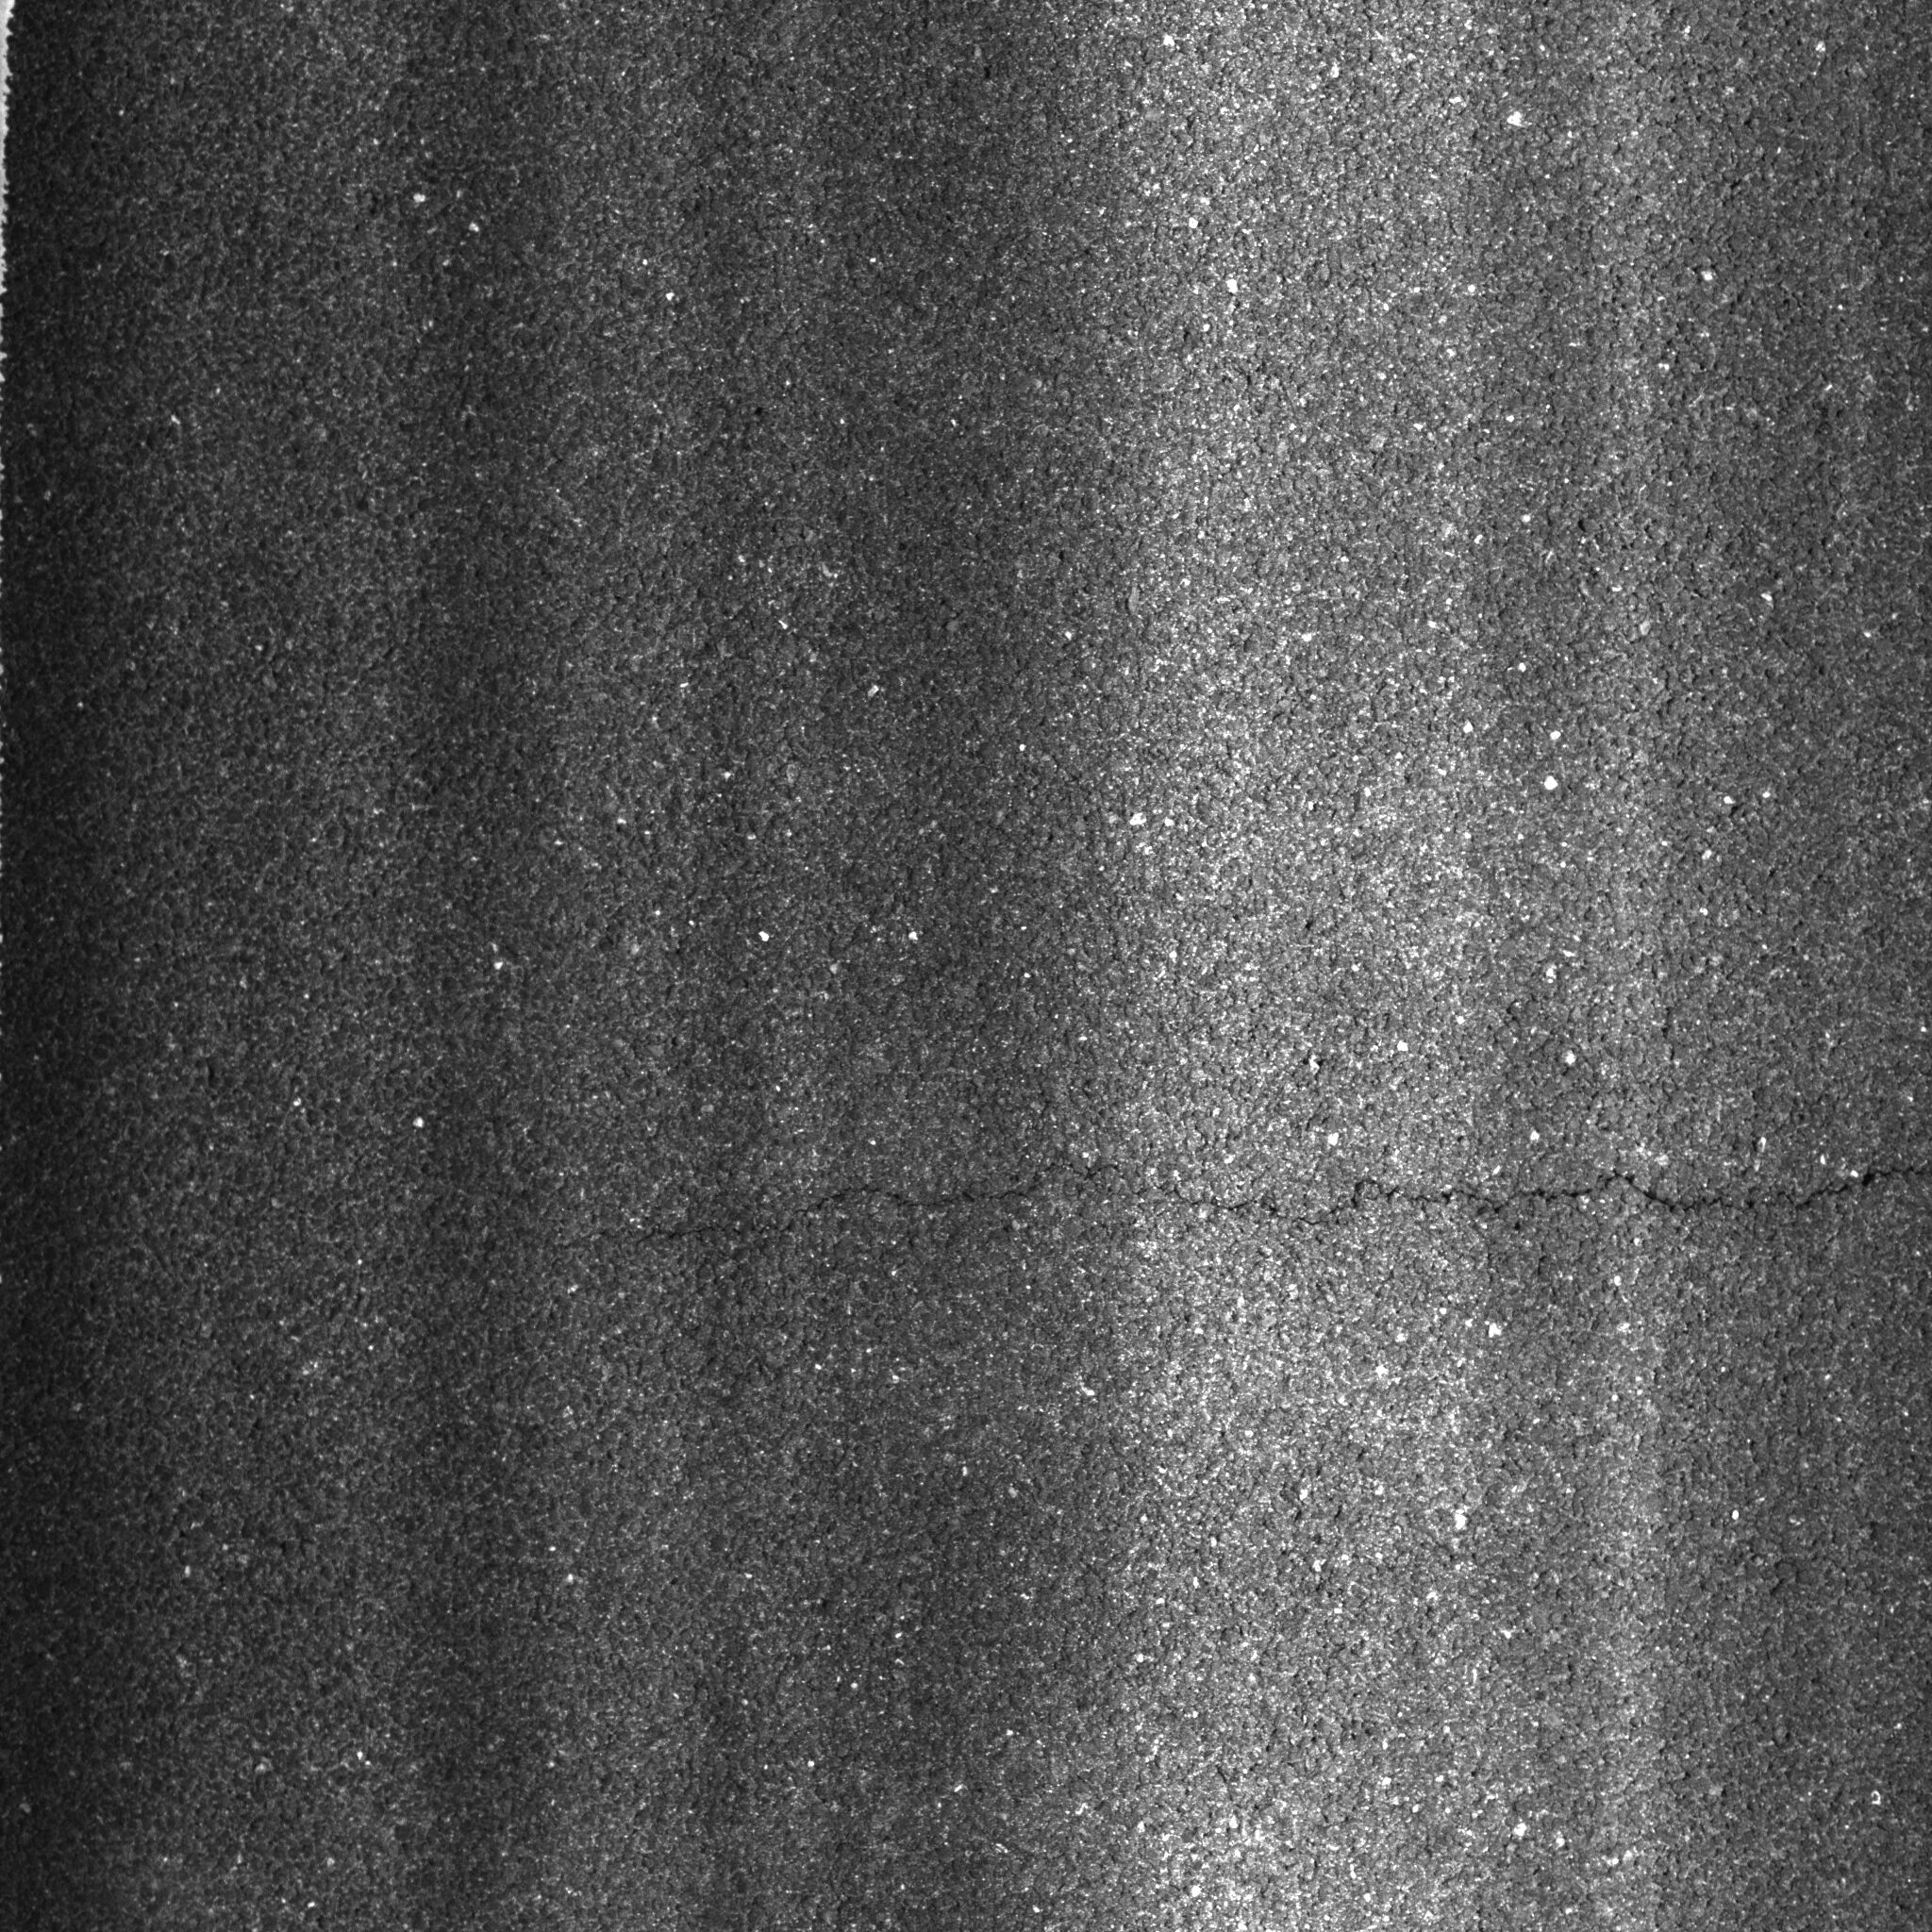transverse: (471, 1086, 1921, 1329)
